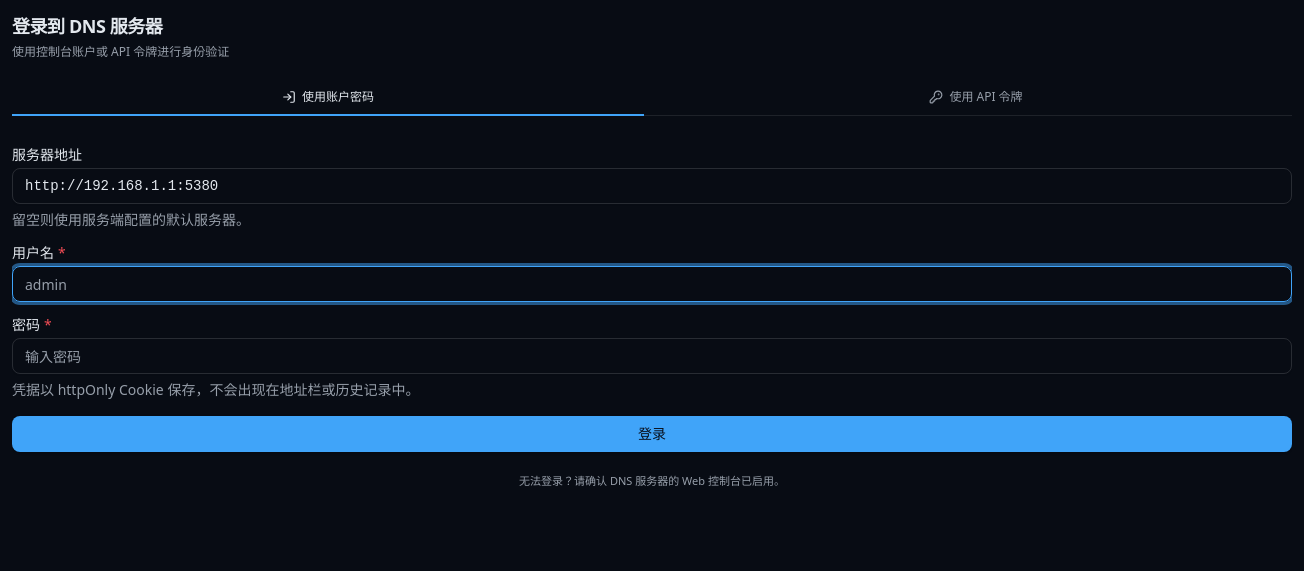
Test: LoginForm — error rendering › shows usernameRequired error when username is blank
Type "pass" into the password field labelled "密码 *" at (652, 356), box 12,338 -> 1292,374
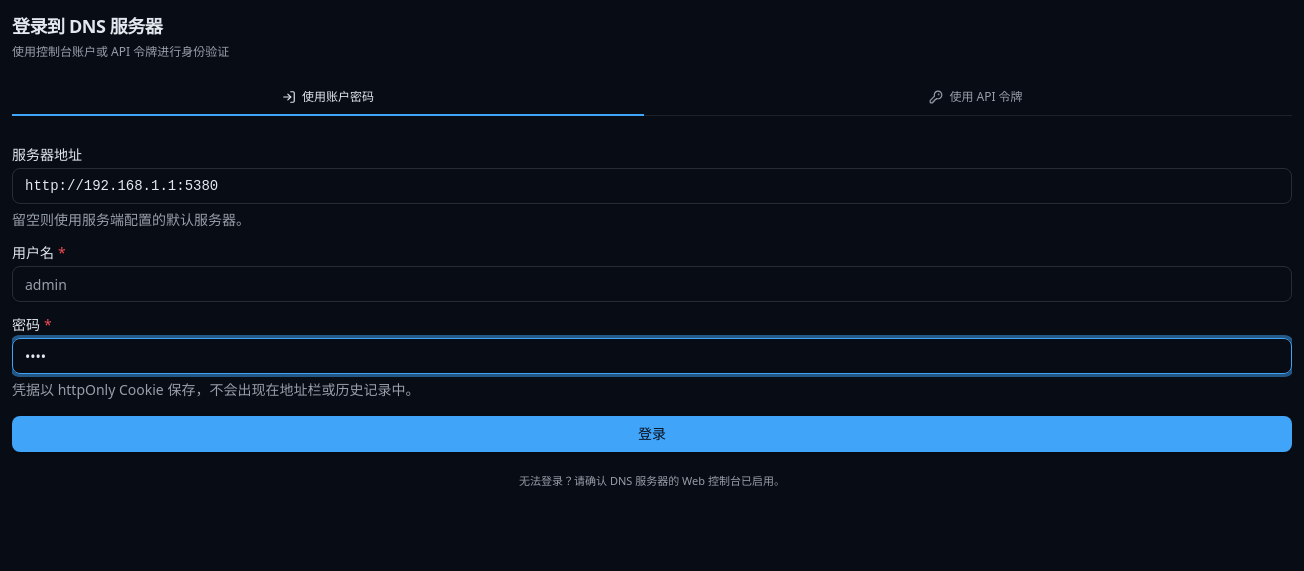
Click the button "登录" at (652, 434), box 12,416 -> 1292,452
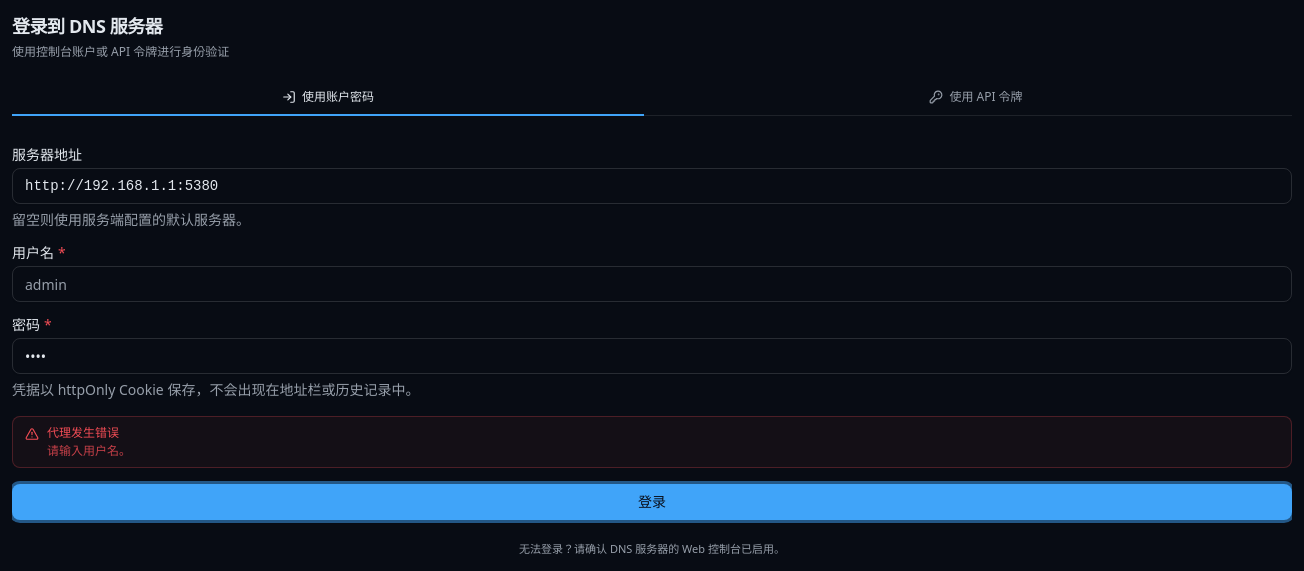
Expected: the text "请输入用户名。" is shown, 47,442 -> 131,459
